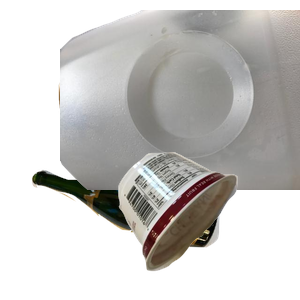glass: (29, 167, 241, 300)
metal: (56, 43, 211, 187)
plastic: (60, 10, 300, 190)
trash: (116, 149, 300, 300)
